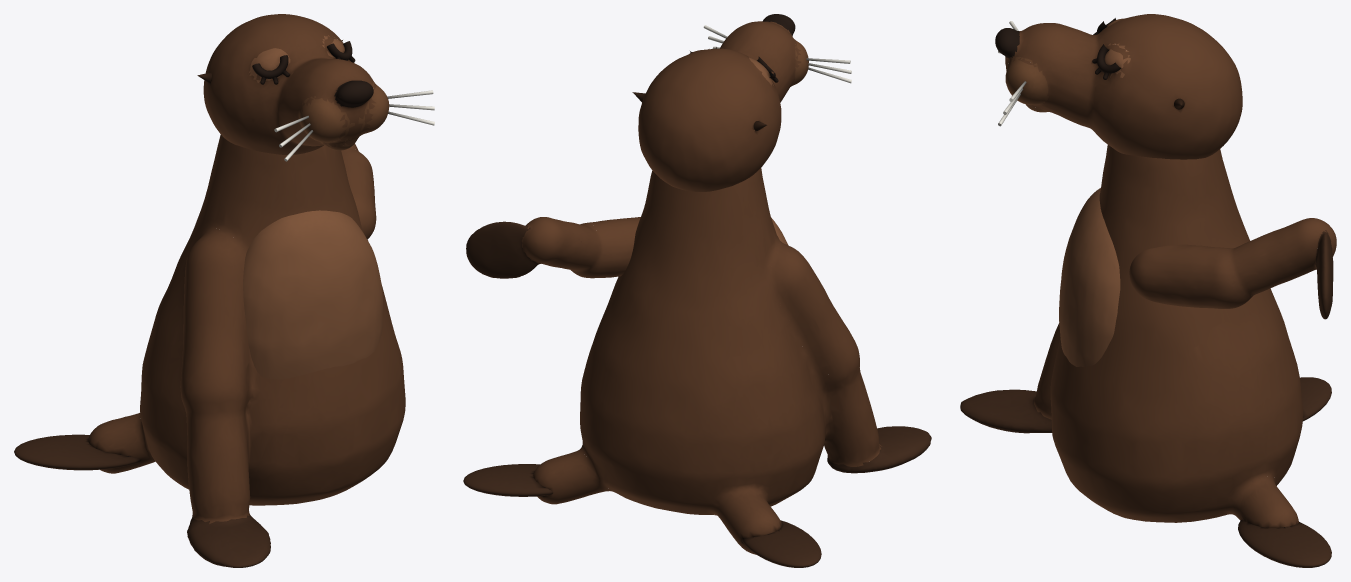
Rendered from slack-lampan.glb.
3 renders of one model, left to right at view 1: azimuth 30°, elevation 25°; view 2: azimuth 150°, elevation 25°; view 3: azimuth 270°, elevation 25°, orthographic. The views are drawn at different scales.
Parts seen in each view (by area): view 1: leao__r0, barriga__r0, cabeca__r0, leao__r2, nadadeira__r0; view 2: leao__r0, cabeca__r0, nadadeira__r0, leao__r2, leao__r3; view 3: leao__r0, cabeca__r0, nadadeira__r0, barriga__r0, leao__r3, leao__r2.
Part boxes in pixels (x1,y1,x2,y2): leao__r0: (88, 134, 405, 567); barriga__r0: (243, 210, 382, 379); cabeca__r0: (203, 14, 389, 154); leao__r2: (14, 434, 140, 470); nadadeira__r0: (341, 123, 376, 239); leao__r0: (533, 168, 931, 554); cabeca__r0: (638, 14, 808, 191); nadadeira__r0: (466, 217, 640, 278); leao__r2: (742, 520, 821, 567); leao__r3: (463, 464, 553, 496); leao__r0: (960, 145, 1303, 527); cabeca__r0: (995, 14, 1242, 159); nadadeira__r0: (1129, 218, 1336, 319); barriga__r0: (1059, 188, 1120, 366); leao__r3: (1238, 520, 1331, 567); leao__r2: (1300, 377, 1331, 421).
Bounding box in the file's own units: 1.71 × 2 × 1.45.
